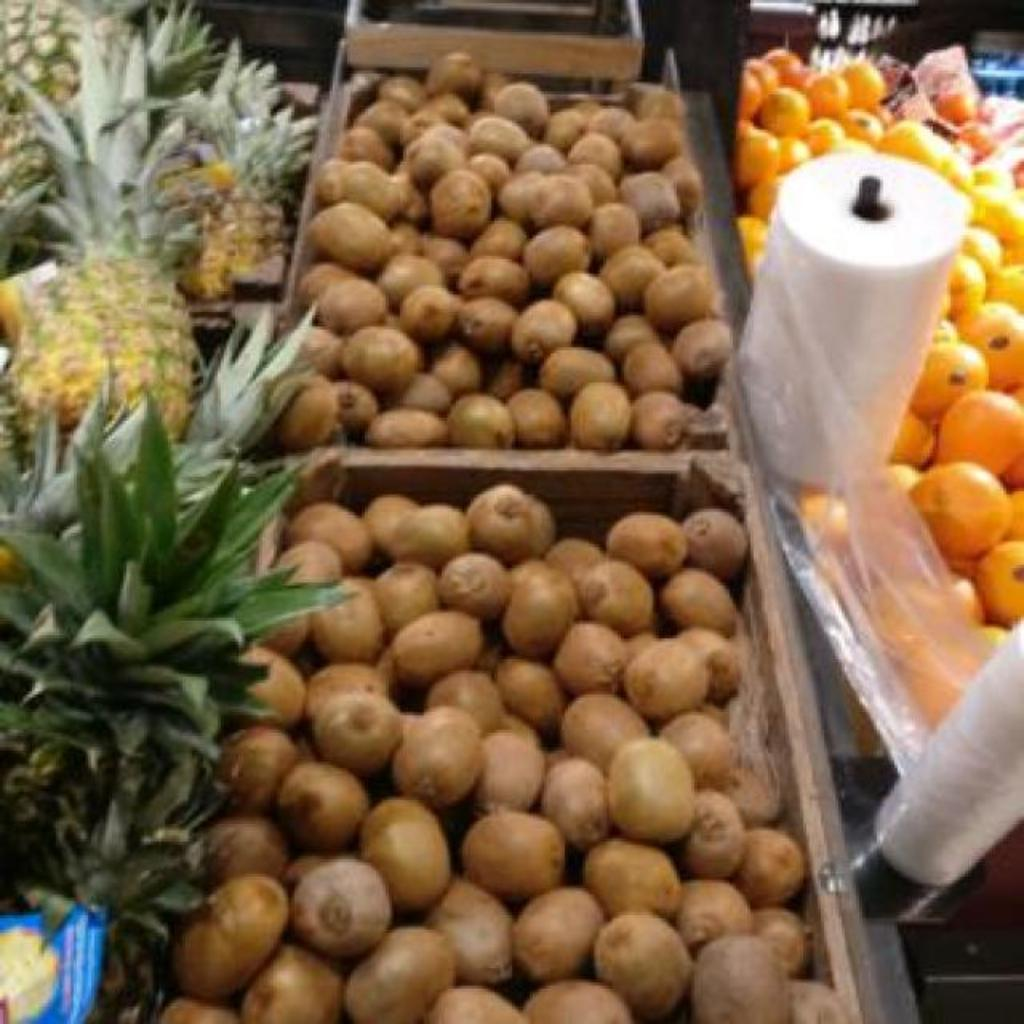kiwi: (174, 874, 288, 999), (344, 926, 456, 1024), (594, 912, 692, 1020), (290, 856, 392, 958), (360, 798, 450, 912), (462, 810, 566, 900), (392, 706, 482, 808), (608, 738, 694, 844), (426, 878, 512, 984), (690, 934, 790, 1024), (512, 888, 604, 982), (278, 762, 370, 852), (242, 944, 342, 1024), (584, 838, 682, 918), (312, 690, 402, 777), (390, 610, 484, 688), (624, 638, 710, 722), (218, 726, 300, 812), (562, 692, 650, 770), (540, 756, 610, 850), (310, 578, 384, 662), (308, 202, 394, 274), (503, 575, 578, 657), (204, 814, 288, 886), (288, 502, 374, 572), (578, 558, 654, 636), (660, 712, 736, 789), (734, 828, 806, 908), (682, 790, 746, 879), (470, 484, 541, 563), (340, 326, 422, 394), (606, 512, 688, 580), (476, 730, 544, 812), (554, 622, 628, 696), (676, 880, 754, 950), (388, 504, 470, 568), (660, 568, 736, 636), (244, 646, 306, 728), (644, 264, 716, 334), (438, 552, 510, 622), (496, 658, 566, 730), (426, 670, 504, 733), (676, 628, 740, 704), (524, 980, 634, 1024), (374, 562, 440, 635), (306, 662, 390, 719), (682, 508, 748, 580), (278, 376, 338, 452), (600, 244, 666, 312), (402, 124, 470, 190), (430, 168, 492, 240), (510, 300, 578, 364), (570, 382, 632, 451), (336, 162, 401, 227), (522, 226, 590, 288), (540, 346, 616, 400), (552, 272, 616, 336), (318, 278, 388, 335), (376, 254, 446, 310), (426, 986, 528, 1024), (620, 172, 682, 234), (400, 284, 462, 344), (670, 318, 732, 378), (495, 170, 561, 226), (446, 394, 514, 448), (754, 908, 808, 976), (456, 256, 530, 304), (508, 388, 566, 448), (458, 296, 518, 354), (620, 118, 684, 171), (362, 494, 420, 552), (364, 408, 448, 448), (632, 390, 688, 450), (724, 768, 780, 828), (622, 342, 682, 396), (492, 82, 550, 136), (533, 180, 595, 230), (468, 114, 532, 162), (278, 540, 344, 584), (590, 202, 640, 260), (424, 50, 482, 100), (544, 538, 606, 584), (430, 342, 482, 396), (604, 314, 660, 363), (298, 262, 357, 308), (338, 126, 396, 170), (568, 132, 622, 178), (354, 100, 408, 146), (662, 156, 704, 215), (334, 380, 378, 436), (470, 218, 528, 260), (422, 236, 470, 286), (644, 226, 702, 266), (396, 374, 452, 414), (564, 164, 618, 205), (300, 326, 342, 378), (158, 998, 240, 1024), (262, 614, 310, 657), (390, 172, 428, 224), (312, 160, 354, 207), (544, 108, 588, 152), (512, 555, 559, 594), (468, 152, 512, 193), (400, 108, 446, 146), (378, 76, 426, 112), (634, 90, 686, 122), (588, 106, 634, 142), (425, 94, 470, 128), (488, 358, 524, 400), (514, 144, 566, 173), (500, 712, 540, 746), (480, 75, 512, 114), (533, 505, 554, 557), (390, 222, 424, 254), (474, 642, 504, 674), (626, 632, 658, 657), (700, 702, 728, 726), (575, 100, 601, 120), (544, 748, 568, 769)
pineapple: (0, 402, 334, 831), (10, 0, 196, 433), (0, 760, 204, 1023), (182, 105, 322, 299), (186, 308, 311, 455), (0, 0, 80, 225), (180, 38, 280, 134), (144, 0, 220, 97)
